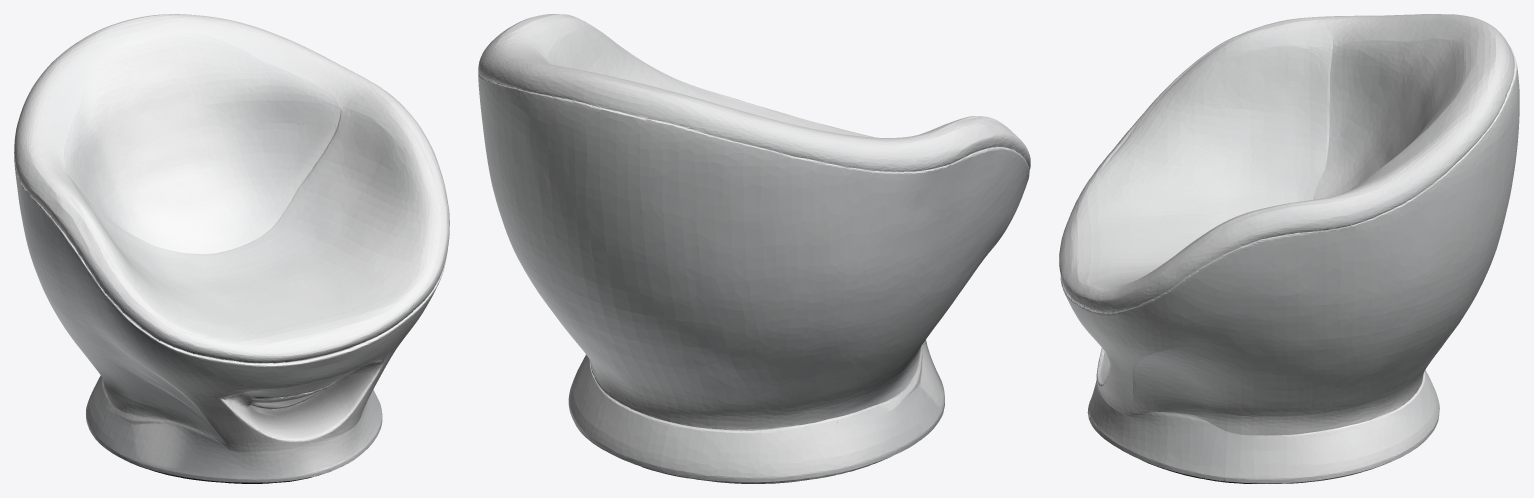
File: chair12.glb
3 renders of one model, left to right at view 1: azimuth 30°, elevation 25°; view 2: azimuth 150°, elevation 25°; view 3: azimuth 270°, elevation 25°, orthographic. The views are drawn at different scales.
Visible parts, largest first — view 1: furniture_0; view 2: furniture_0; view 3: furniture_0.
Part boxes in pixels (x1,y1,x2,y2): furniture_0: [14, 14, 449, 483]; furniture_0: [478, 14, 1030, 483]; furniture_0: [1059, 14, 1519, 483].
Bounding box in the file's own units: 1 × 0.8568 × 0.9714.
1 material, 1 textured.
